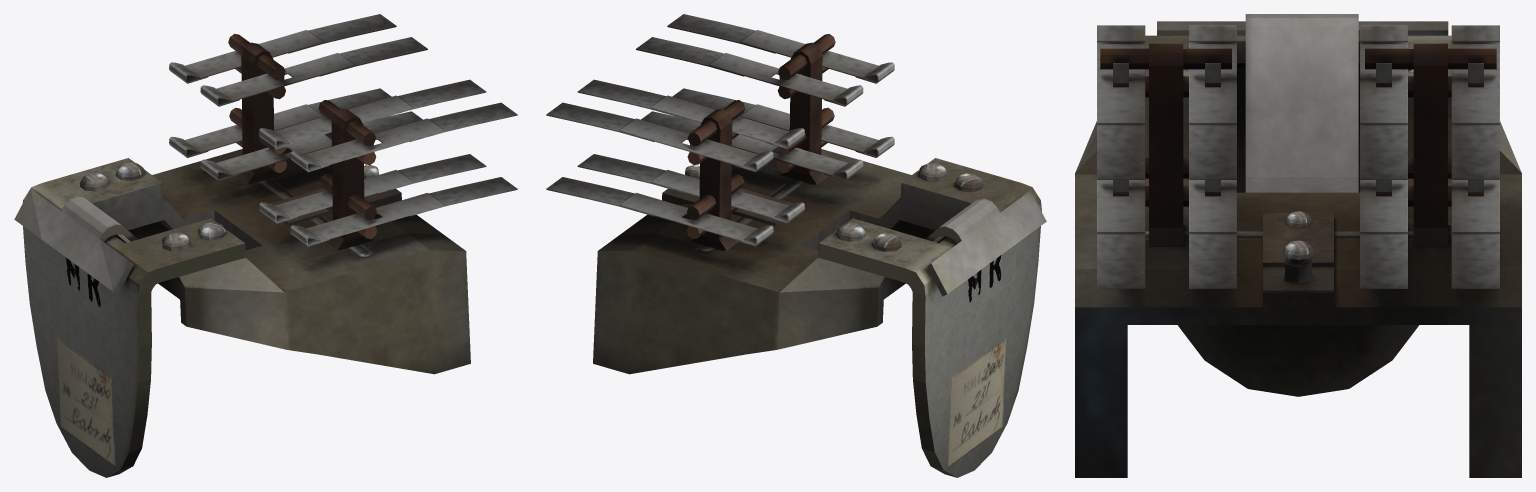
The picture shows the model from 3 angles, left to right: view 1: azimuth 30°, elevation 25°; view 2: azimuth 150°, elevation 25°; view 3: azimuth 270°, elevation 25°; orthographic projection. The views are drawn at different scales.
Parts seen in each view (by area): view 1: ya005, k007, k008, p005; view 2: ya005, k007, k008, p005; view 3: ya005, k007, k008, p005.
Part boxes in pixels (x1=…): ya005: x1=14, y1=148, x2=470, y2=477; k007: x1=169, y1=14, x2=517, y2=172; k008: x1=169, y1=88, x2=517, y2=246; p005: x1=228, y1=33, x2=377, y2=250; ya005: x1=593, y1=148, x2=1046, y2=477; k007: x1=546, y1=14, x2=894, y2=172; k008: x1=546, y1=88, x2=894, y2=246; p005: x1=686, y1=34, x2=835, y2=250; ya005: x1=1075, y1=14, x2=1521, y2=477; k007: x1=1097, y1=25, x2=1499, y2=179; k008: x1=1097, y1=180, x2=1499, y2=288; p005: x1=1100, y1=43, x2=1496, y2=246.
Size of the model in its own units: 0.0727 by 0.0609 by 0.0496.
